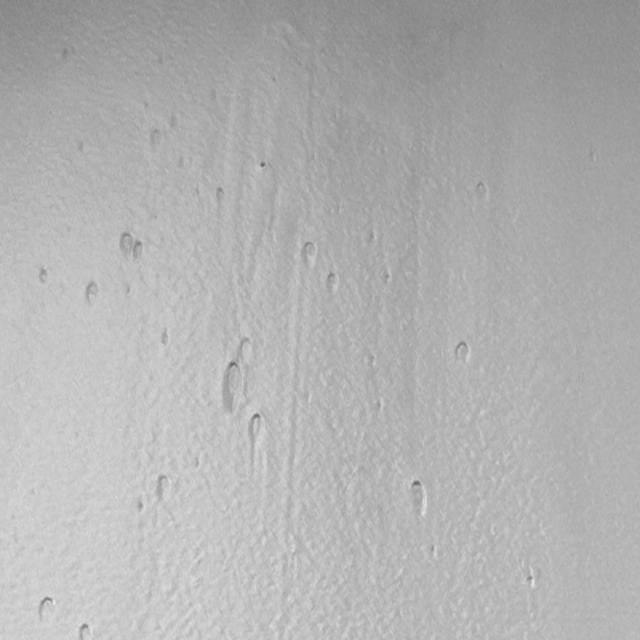pin holes: (218, 358, 243, 418), (405, 478, 432, 522), (36, 595, 60, 625), (246, 412, 267, 443), (82, 278, 103, 308), (152, 473, 174, 501), (471, 178, 492, 207), (452, 340, 474, 367), (321, 270, 341, 298), (299, 241, 319, 269), (236, 336, 256, 364), (118, 233, 136, 258), (38, 264, 55, 288), (148, 126, 164, 150), (77, 621, 96, 640), (523, 572, 538, 592), (132, 239, 145, 261), (134, 498, 147, 518), (159, 330, 172, 348), (429, 542, 442, 560), (217, 185, 228, 206), (381, 270, 393, 288), (192, 455, 204, 473), (125, 283, 136, 301), (259, 159, 271, 174), (368, 356, 379, 372)
